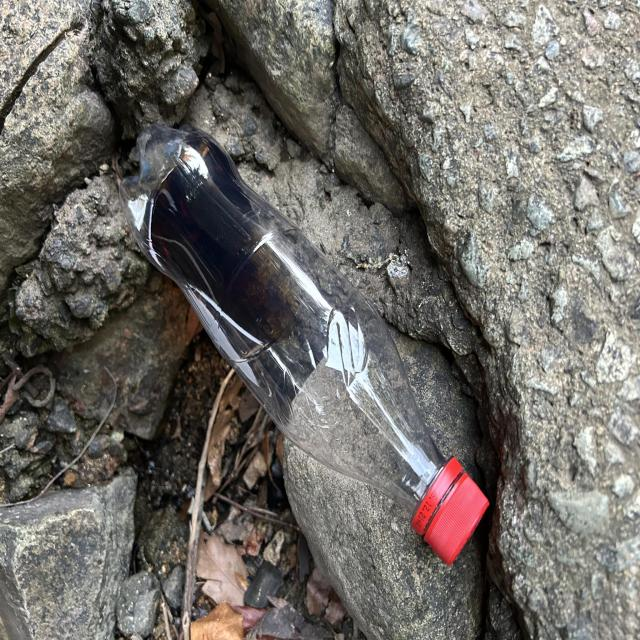low: (120, 125, 488, 564)
